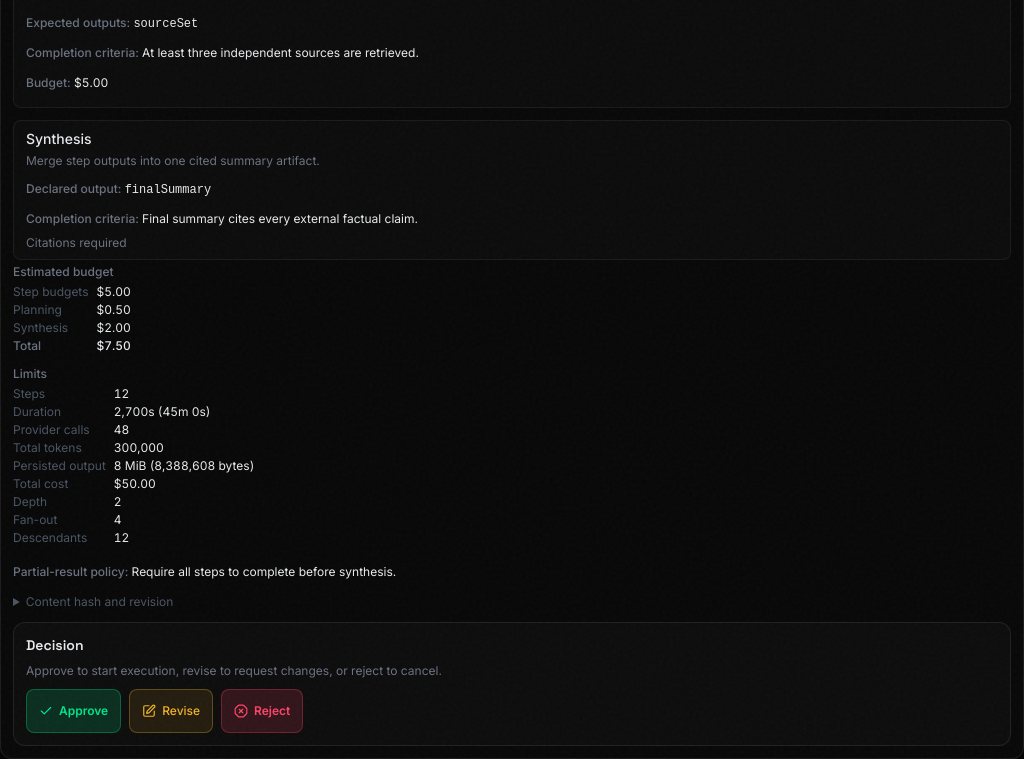
Scenario: Mission plan decision dialogs › marks the revision request as succeeded and surfaces a non-actionable status
(page scrolled)
Step 1. Click the button with aria-label "revise plan revision 1" → (171, 711), box x1=129 y1=689 x2=213 y2=733
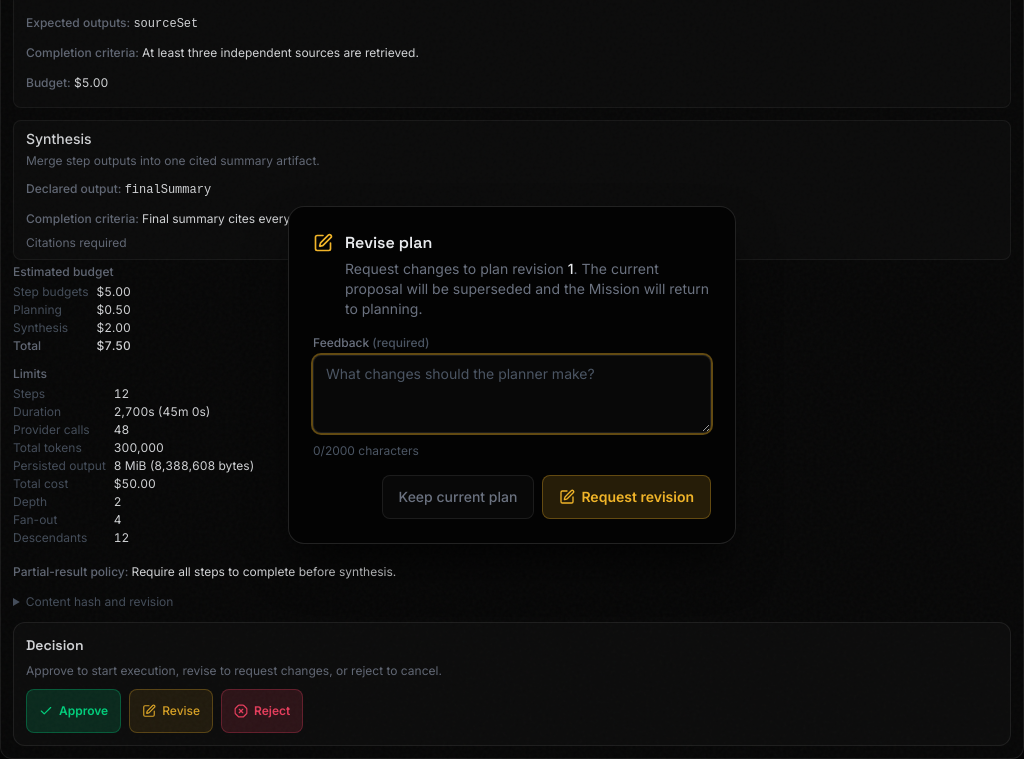
Step 2. Type "Add a citations step." into the text box labelled "Feedback (required)" → (512, 394), box x1=313 y1=355 x2=711 y2=433
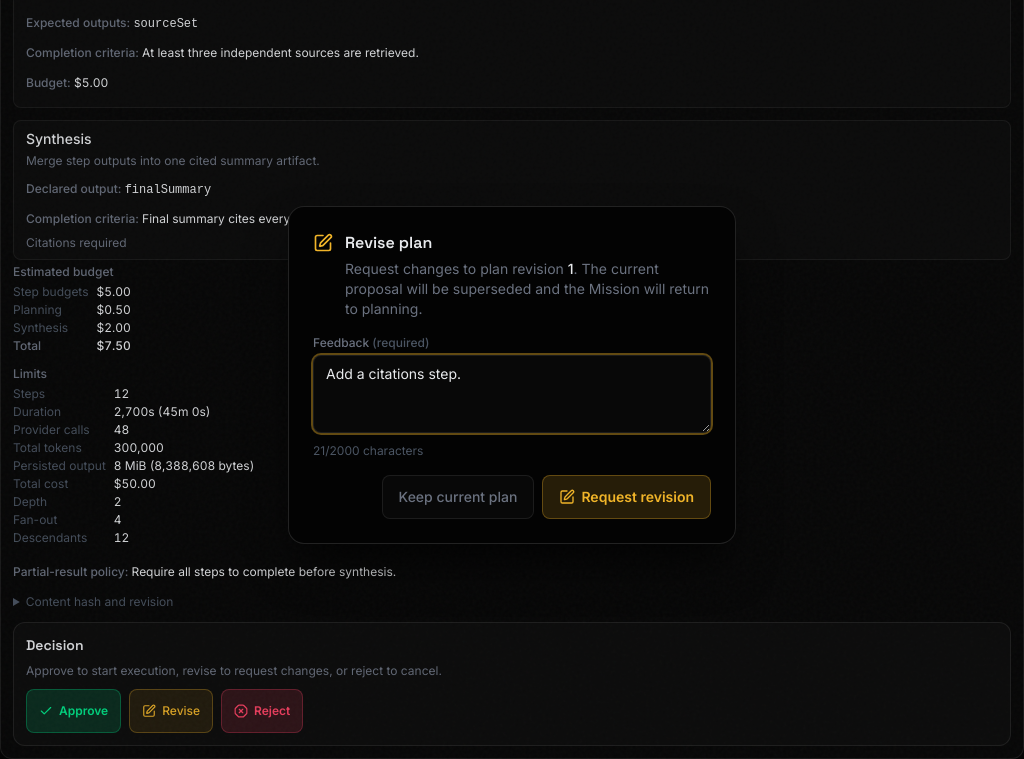
Step 3. Click the button "Request revision" → (627, 497), box x1=542 y1=475 x2=711 y2=519
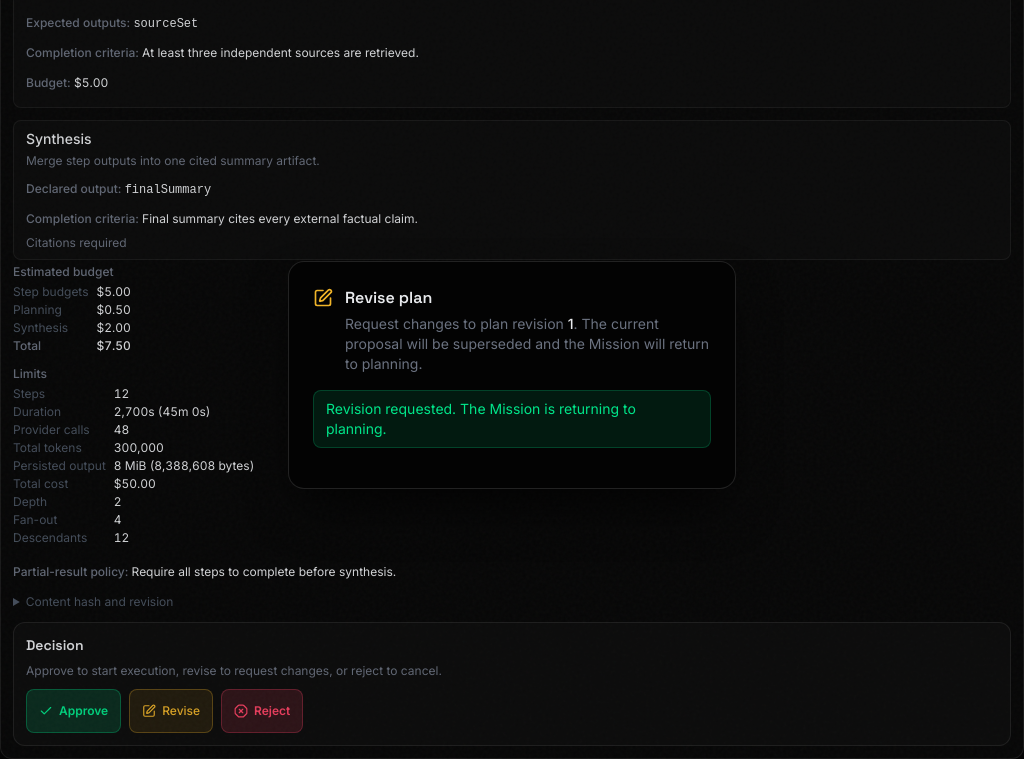
Expected: the text "Revision requested. The Mission is returning to planning." is shown, x1=313 y1=390 x2=711 y2=448
